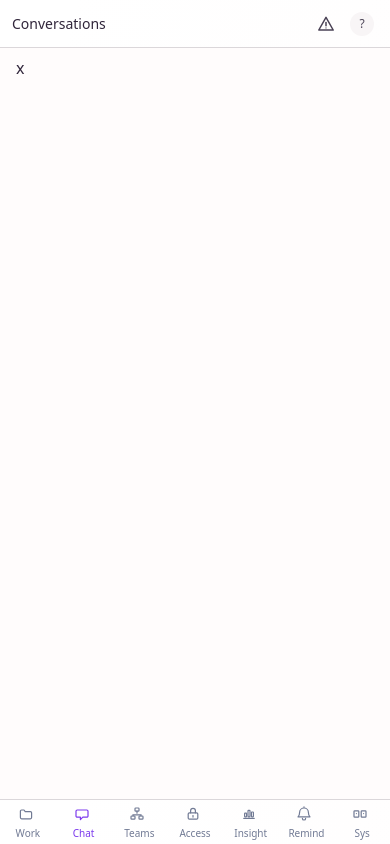
Test case: AppLayout v5 shell (v2.10.0 [T1] — three-column module rail) › mobile account sheet exposes org switch / account / theme / language / sign out
Click the button with test id "mobile-account-toggle": {"x": 362, "y": 24} [346,8,378,40]
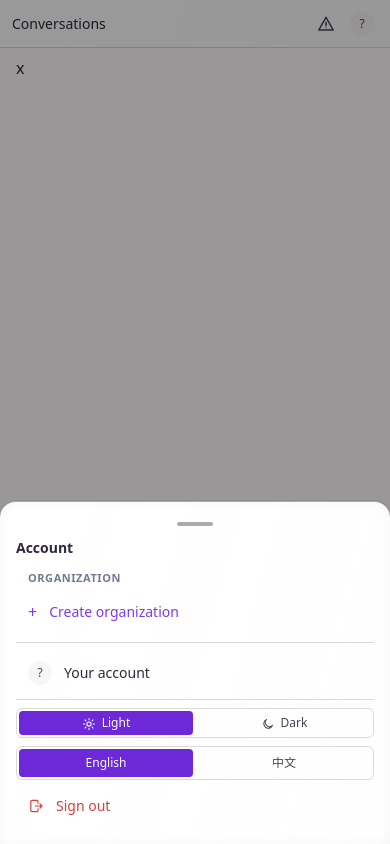
Expected: the element with test id "theme-toggle" is shown, [16,708,374,738]
Expected: the element with test id "mobile-language-toggle" is shown, [16,746,374,780]
Expected: the button with test id "account-signout" is shown, [16,784,374,828]
